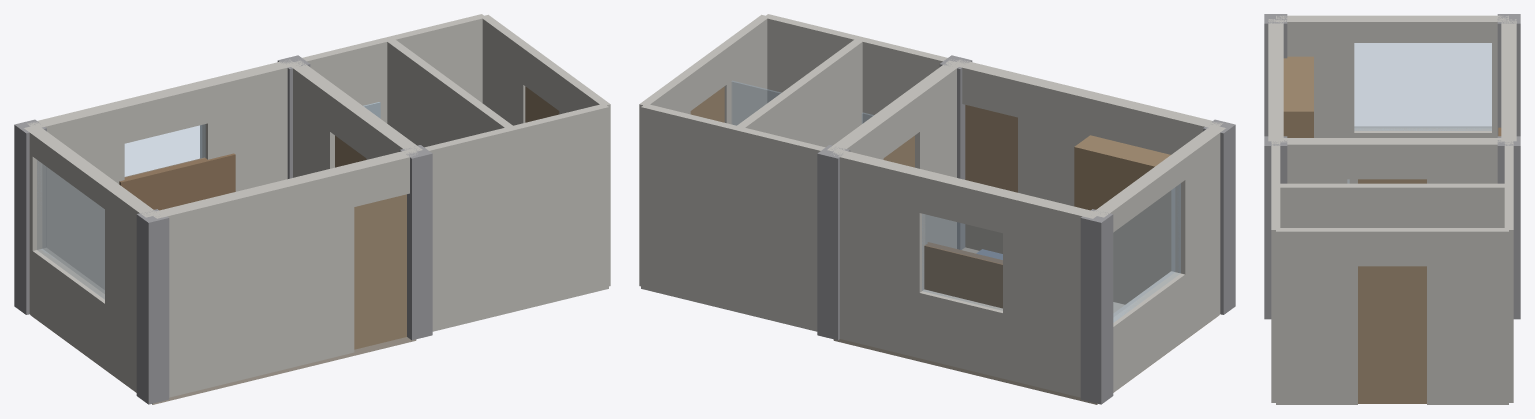
The model's file is from_schema.glb.
The picture shows the model from 3 angles, left to right: view 1: azimuth 30°, elevation 25°; view 2: azimuth 150°, elevation 25°; view 3: azimuth 270°, elevation 25°; orthographic projection. The views are drawn at different scales.
Size of the model in its own units: 6.74 by 2.6 by 3.35.
